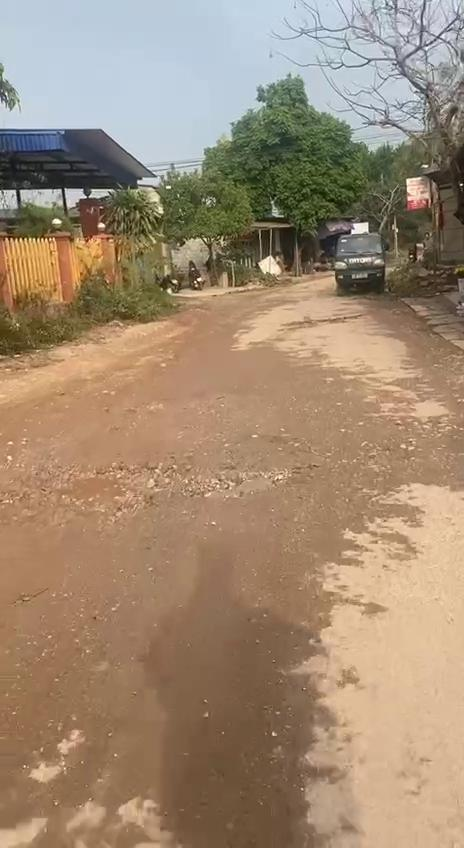pothole: (50, 454, 176, 520), (194, 461, 304, 501)
